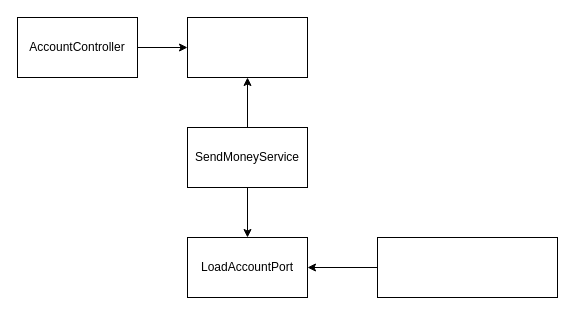
This 575x315 diagram has some shape labels left out. Here are the shapes that lost their labels. From the top down, the centre of each, then its label:
(x=247, y=47): SendMoneyUserCase
(x=467, y=267): AccountPersistenceAdapter
